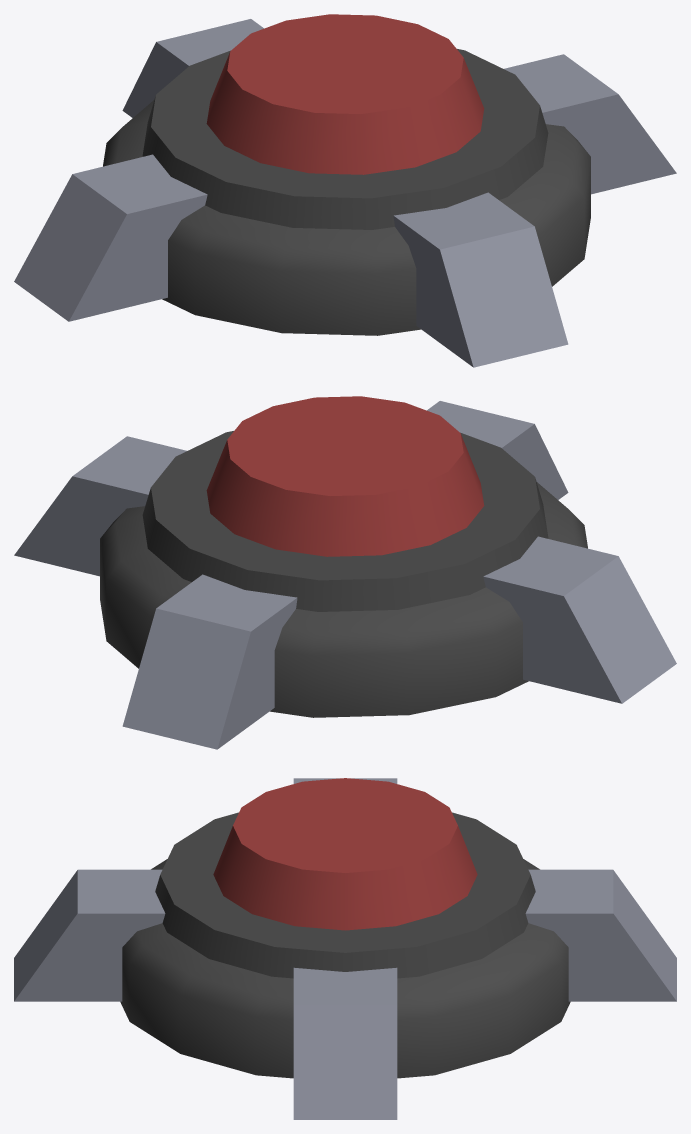
Rendered from Landmine.glb.
The picture shows the model from 3 angles, top to bottom: view 1: azimuth 30°, elevation 25°; view 2: azimuth 150°, elevation 25°; view 3: azimuth 270°, elevation 25°; orthographic projection. The views are drawn at different scales.
Parts seen in each view (by area): view 1: Landmine; view 2: Landmine; view 3: Landmine.
Part boxes in pixels (box(x1,y1,x2,y2)): Landmine: box(14, 14, 676, 367); Landmine: box(14, 396, 676, 749); Landmine: box(14, 778, 676, 1119).
Bounding box in the file's own units: 1.11 × 0.2942 × 1.11.
